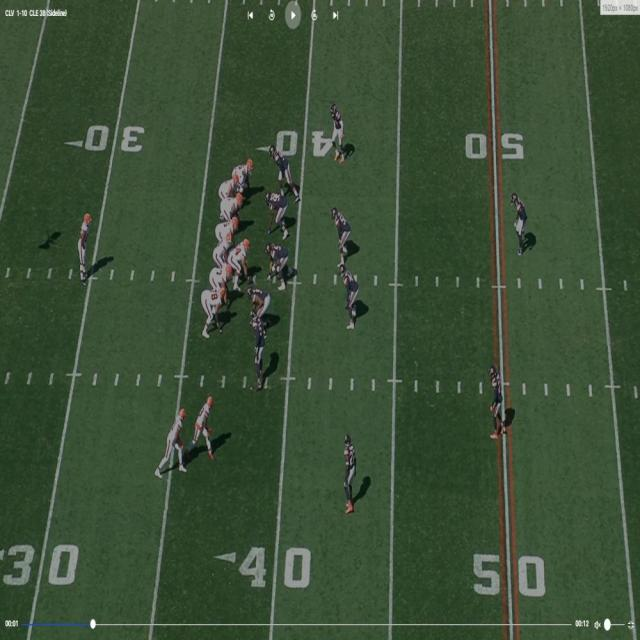center: (232, 238, 253, 287)
db: (489, 368, 508, 436), (346, 434, 359, 513), (514, 194, 530, 254), (79, 212, 93, 275), (330, 102, 344, 158)
lb: (344, 270, 363, 332), (270, 143, 291, 187), (331, 208, 351, 254)
qb: (212, 233, 231, 265)
skill: (165, 408, 186, 473), (194, 394, 216, 456), (237, 159, 254, 192), (218, 173, 240, 197)
